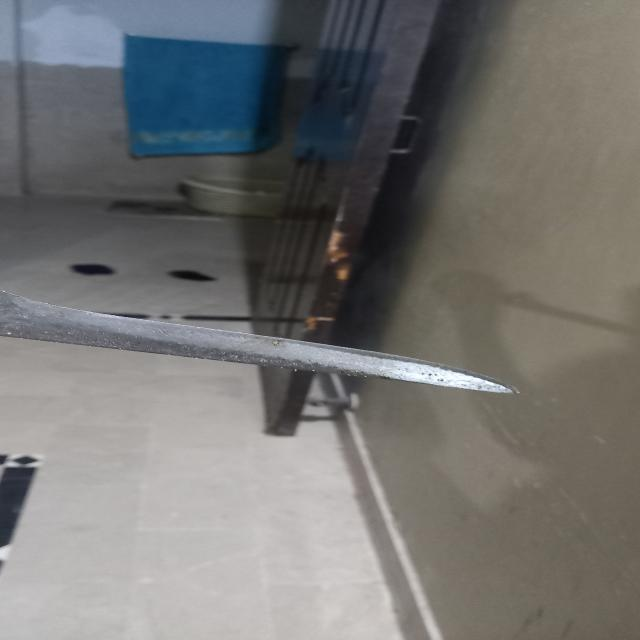senjata_tajam: (0, 289, 530, 397)
